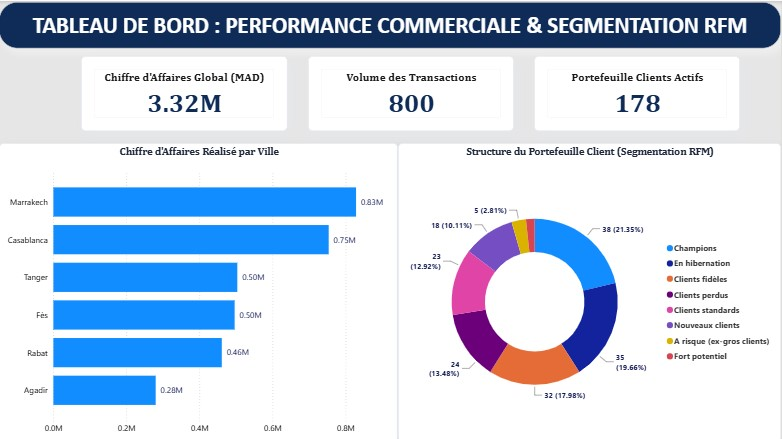

This screenshot's page, from the dashboard's own definition file:
{"tool":"powerbi","page":{"name":"Page 2","canvas":[1280,720],"ordinal":0},"visuals":[{"type":"cardVisual","fields":{"Data":["CountNonNull(Fact_Transactions.Transaction_ID)"]},"box":[505.1,90.7,337,122.6],"z":0},{"type":"cardVisual","fields":{"Data":["CountNonNull(Dim_Customers.Customer_ID)"]},"box":[875.2,90.7,337,122.6],"z":1000},{"type":"cardVisual","fields":{"Data":["Sum(Fact_Transactions.Total_Amount)"]},"box":[134.4,90.7,337.6,122.6],"z":2000},{"type":"clusteredBarChart","title":"Chiffre d''Affaires Réalisé par Ville","fields":{"Category":["Dim_Customers.City"],"Y":["Sum(Fact_Transactions.Total_Amount)"]},"box":[0,231.8,653.4,488.8],"z":3000},{"type":"donutChart","title":"Structure du Portefeuille Client (Segmentation RFM)","fields":{"Category":["vw_rfm_segments.Segment_RFM"],"Y":["CountNonNull(vw_rfm_segments.Customer_ID)"]},"box":[653.4,231.8,626.6,488.8],"z":4000},{"type":"textbox","box":[0,1.7,1280,75.6],"z":5000}]}

Visuals, with their boxes in screenshot pixels (x1, y1, x2, y2), scaled from the page's 1280x720 canvas onto the 782x439 screenshot:
cardVisual - CountNonNull(Fact_Transactions.Transaction_ID): box(309, 55, 514, 130)
cardVisual - CountNonNull(Dim_Customers.Customer_ID): box(535, 55, 741, 130)
cardVisual - Sum(Fact_Transactions.Total_Amount): box(82, 55, 288, 130)
"Chiffre d''Affaires Réalisé par Ville" clusteredBarChart: box(0, 141, 399, 438)
"Structure du Portefeuille Client (Segmentation RFM)" donutChart: box(399, 141, 781, 438)
textbox: box(0, 1, 781, 47)
